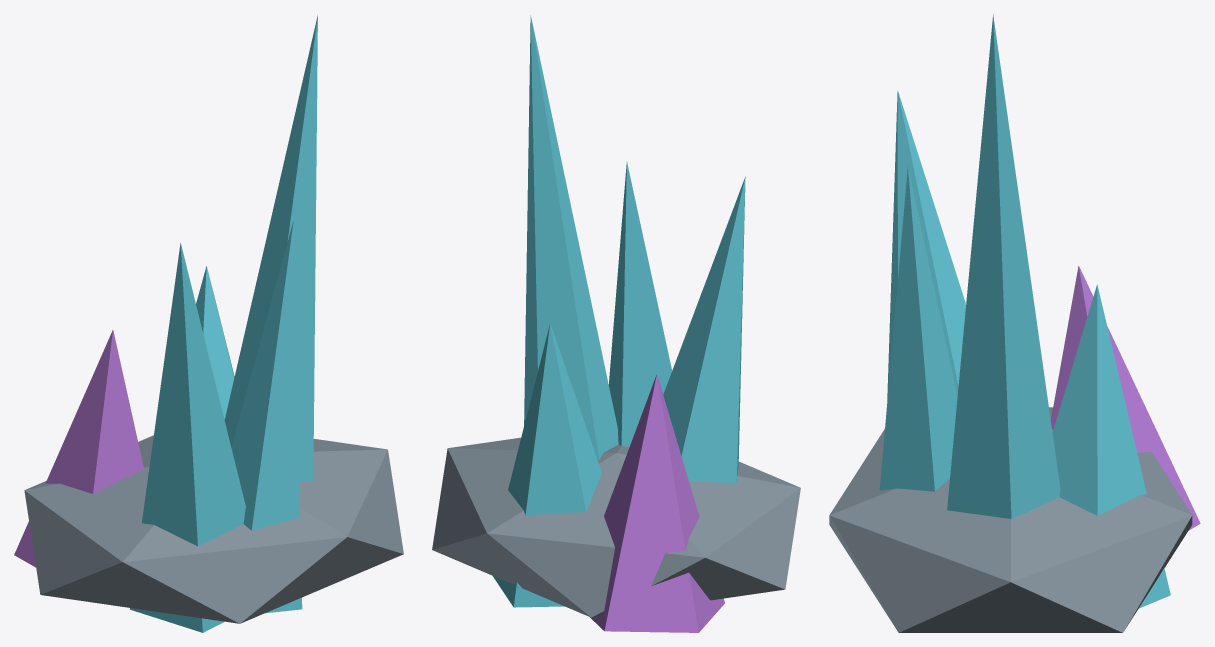
File: Crystal_01_LOD0.fbx
The picture shows the model from 3 angles, left to right: view 1: azimuth 30°, elevation 25°; view 2: azimuth 150°, elevation 25°; view 3: azimuth 270°, elevation 25°; orthographic projection. The views are drawn at different scales.
Parts seen in each view (by area): view 1: Crystal_01_LOD0; view 2: Crystal_01_LOD0; view 3: Crystal_01_LOD0.
Part boxes in pixels (x1,y1,x2,y2): Crystal_01_LOD0: (14,15,403,632); Crystal_01_LOD0: (432,15,800,632); Crystal_01_LOD0: (829,14,1200,632).
Bounding box in the file's own units: 161 × 247 × 131.
